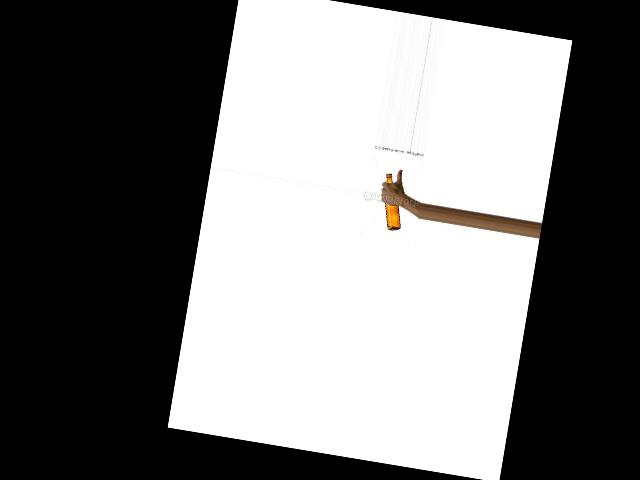beer: (377, 173, 409, 232)
